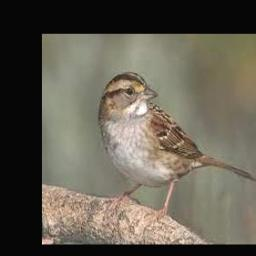Sparrow: (98, 72, 256, 222)
